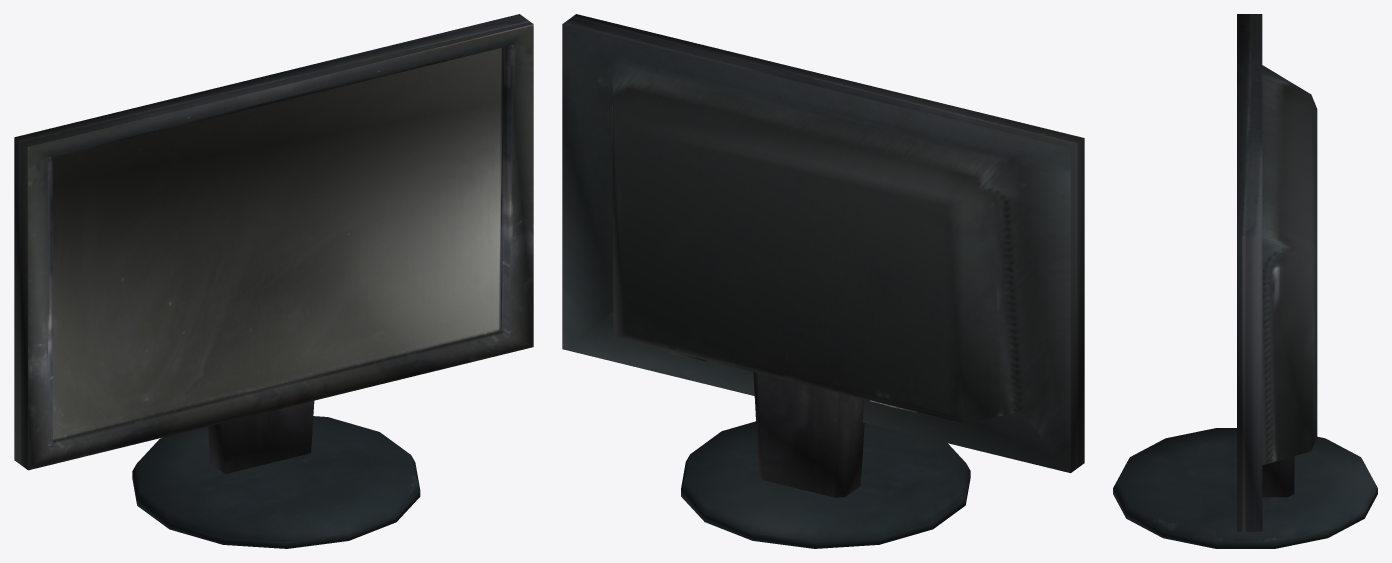
File: OldMonitor03.obj
3 renders of one model, left to right at view 1: azimuth 30°, elevation 25°; view 2: azimuth 150°, elevation 25°; view 3: azimuth 270°, elevation 25°, orthographic. The views are drawn at different scales.
Parts seen in each view (by area): view 1: Cube; view 2: Cube; view 3: Cube.
Boxes of the visible parts, bbox=[...] form: Cube: bbox=[14, 14, 533, 548]; Cube: bbox=[562, 14, 1084, 548]; Cube: bbox=[1113, 14, 1377, 548].
Size of the model in its own units: 3.47 by 2.66 by 1.73.
Materials: 1 (1 with a texture image).
